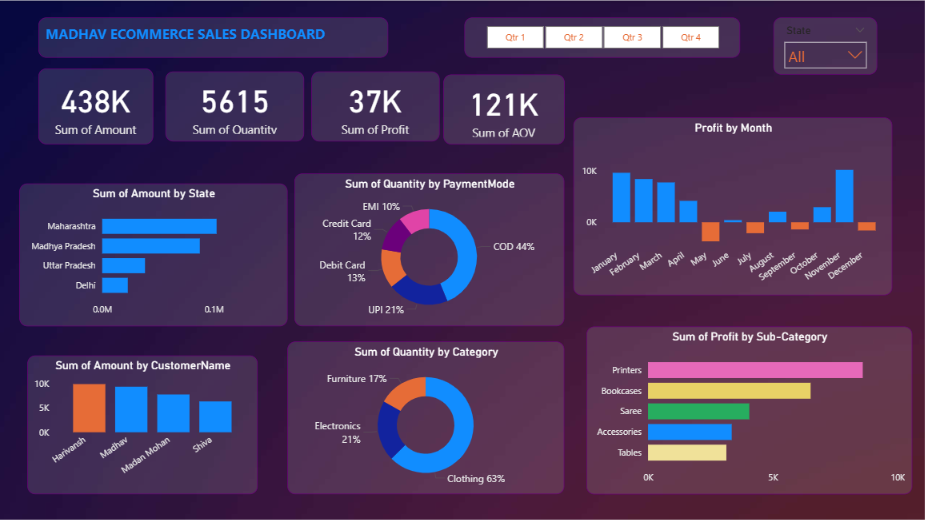

The dashboard page shown, as its layout file describes it:
{"tool":"powerbi","page":{"name":"Page 1","canvas":[1280,720],"ordinal":0},"visuals":[{"type":"textbox","box":[54.9,23.3,480.3,54.9],"z":0},{"type":"columnChart","title":"Profit by Month","fields":{"Category":["Orders.Order Date.Variation.Date Hierarchy.Month"],"Y":["Sum(Details.Profit)"]},"box":[789,160.5,437.7,244.3],"z":1000},{"type":"barChart","fields":{"Category":["Details.Sub-Category"],"Y":["Sum(Details.Profit)"]},"box":[806.9,447.3,447.3,230.5],"z":2000},{"type":"donutChart","fields":{"Category":["Details.Category"],"Y":["Sum(Details.Quantity)"]},"box":[396.6,467.9,380.1,209.9],"z":3000},{"type":"donutChart","fields":{"Category":["Details.PaymentMode","Details.Category"],"Y":["Sum(Details.Quantity)"]},"box":[406.2,237.4,370.5,209.9],"z":4000},{"type":"card","fields":{"Values":["Sum(Details.Amount)"]},"box":[54.9,93.3,157.8,104.3],"z":5000},{"type":"card","fields":{"Values":["Sum(Details.Quantity)"]},"box":[229.2,97.4,190.7,96.1],"z":6000},{"type":"card","fields":{"Values":["Sum(Details.Profit)"]},"box":[429.5,97.4,175.6,96.1],"z":7000},{"type":"card","fields":{"Values":["Sum(Details.AOV)"]},"box":[610.6,101.5,166,96.1],"z":8000},{"type":"barChart","fields":{"Category":["Orders.State"],"Y":["Sum(Details.Amount)"]},"box":[28.8,251.1,367.8,196.2],"z":9000},{"type":"columnChart","fields":{"Category":["Orders.CustomerName"],"Y":["Sum(Details.Amount)"]},"box":[39.8,487.1,315.6,190.7],"z":10000},{"type":"slicer","fields":{"Values":["Orders.Order Date.Variation.Date Hierarchy.Quarter"]},"box":[639.5,23.3,378.7,54.9],"z":11000},{"type":"slicer","fields":{"Values":["Orders.State"]},"box":[1063.5,23.3,142.7,78.2],"z":12000}]}

Visuals, with their boxes in screenshot pixels (x1, y1, x2, y2), scaled from the page's 1280x720 canvas onto the 925x520 screenshot:
textbox: x1=40, y1=17, x2=387, y2=56
"Profit by Month" columnChart: x1=570, y1=116, x2=886, y2=292
barChart - Details.Sub-Category x Sum(Details.Profit): x1=583, y1=323, x2=906, y2=490
donutChart - Details.Category x Sum(Details.Quantity): x1=287, y1=338, x2=561, y2=490
donutChart - Details.PaymentMode x Details.Category: x1=294, y1=171, x2=561, y2=323
card - Sum(Details.Amount): x1=40, y1=67, x2=154, y2=143
card - Sum(Details.Quantity): x1=166, y1=70, x2=303, y2=140
card - Sum(Details.Profit): x1=310, y1=70, x2=437, y2=140
card - Sum(Details.AOV): x1=441, y1=73, x2=561, y2=143
barChart - Orders.State x Sum(Details.Amount): x1=21, y1=181, x2=287, y2=323
columnChart - Orders.CustomerName x Sum(Details.Amount): x1=29, y1=352, x2=257, y2=490
slicer - Orders.Order Date.Variation.Date Hierarchy.Quarter: x1=462, y1=17, x2=736, y2=56
slicer - Orders.State: x1=769, y1=17, x2=872, y2=73
